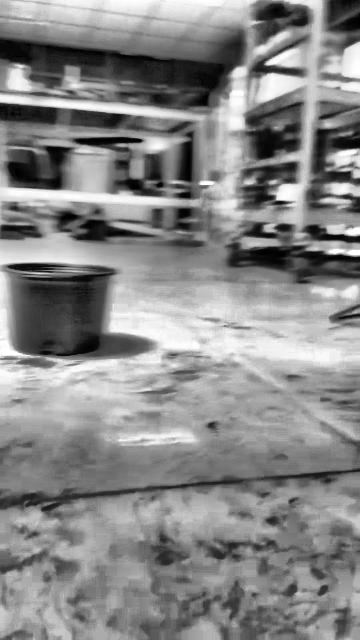pot: (1, 261, 117, 356)
